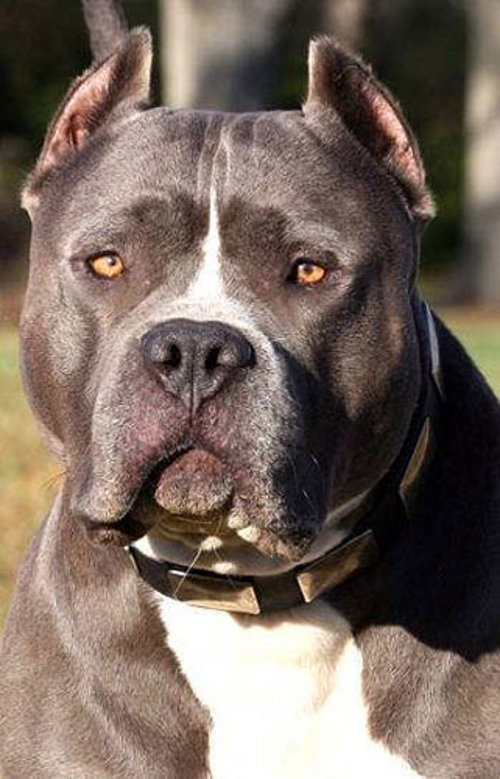dog: (2, 24, 500, 773)
